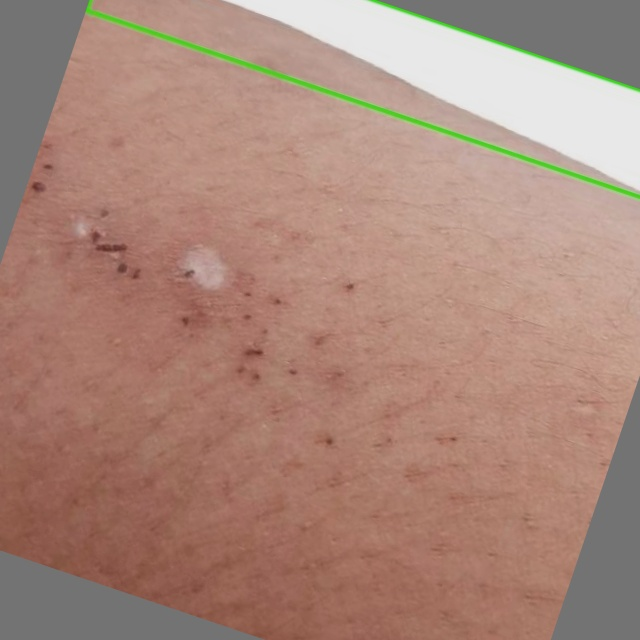Scabies: (86, 0, 639, 196)
